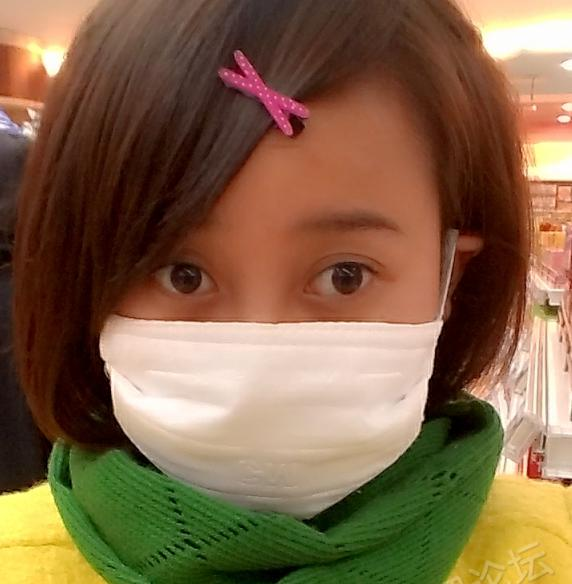OK: (94, 140, 442, 527)
